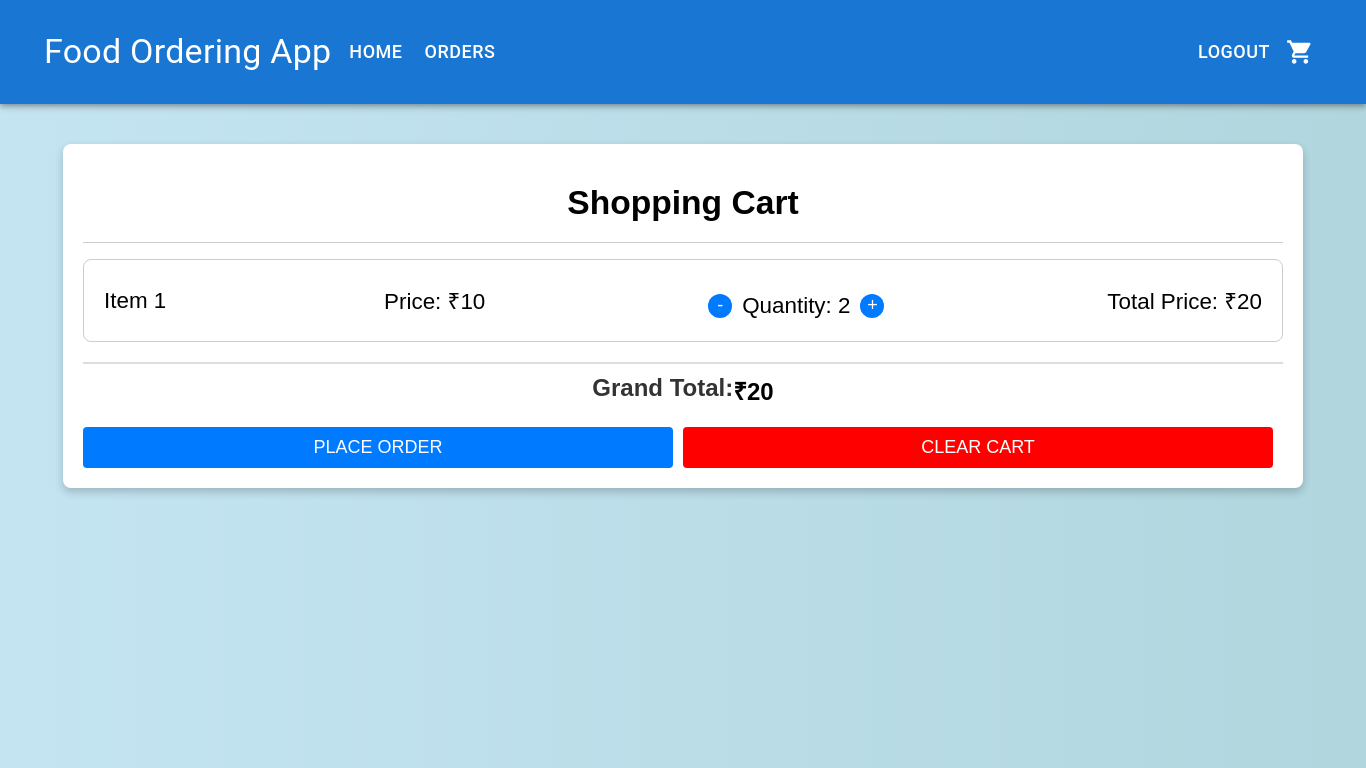
Scenario: Cart Component › it updates item quantity when clicking buttons
Expected: the text "Quantity: 2" is shown, [742, 292, 850, 318]
Click the button with test id "increase-button-item1" at coordinates (872, 306), box [860, 294, 884, 318]
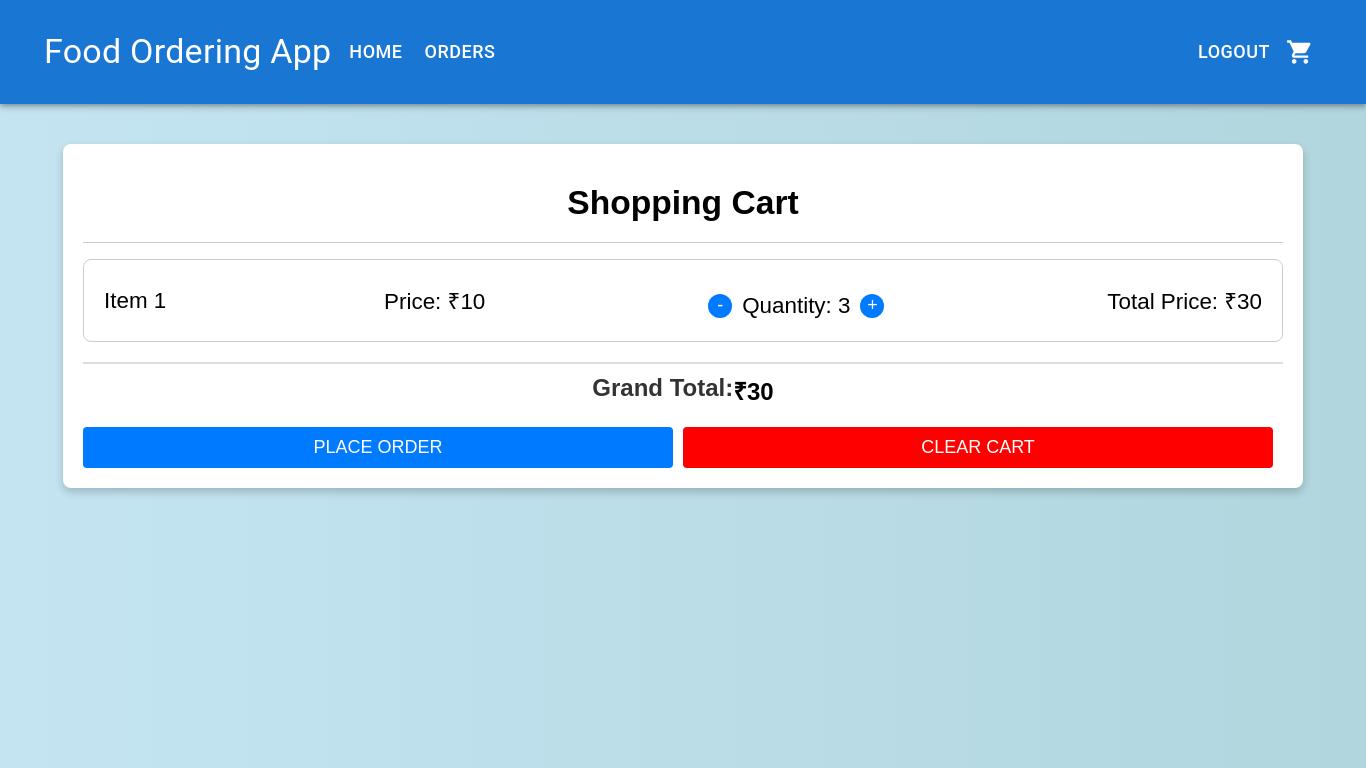
Result: the text "Quantity: 3" is shown at [742, 292, 850, 318]
Click the button "-" at coordinates (720, 306), box [708, 294, 732, 318]
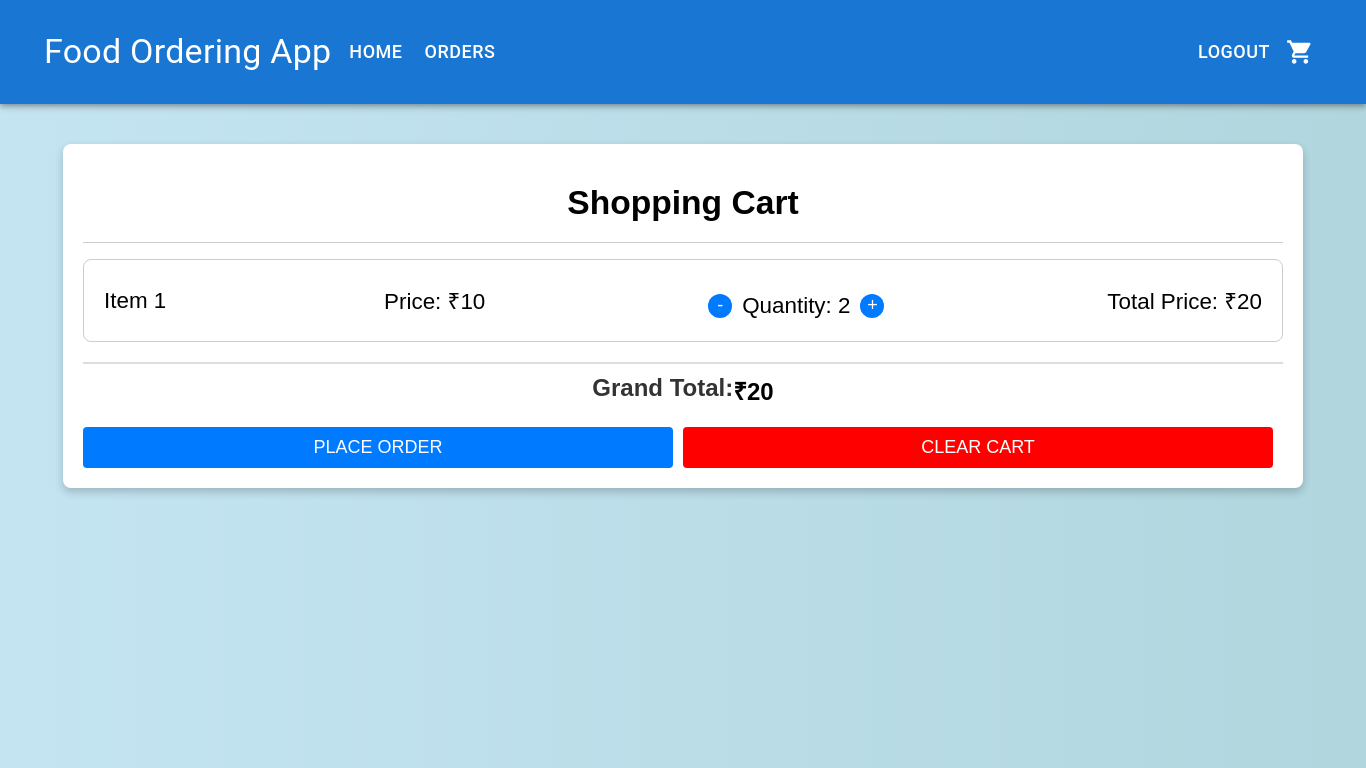
Result: the text "Quantity: 2" is shown at [742, 292, 850, 318]
